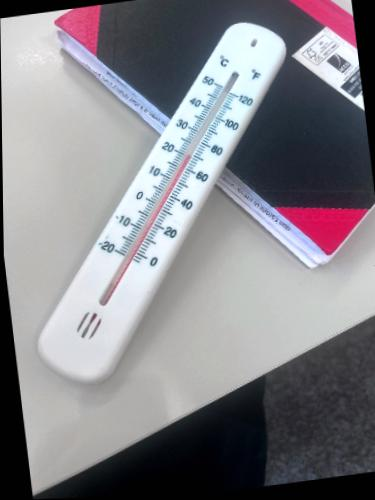thermo: (27, 11, 310, 395)
